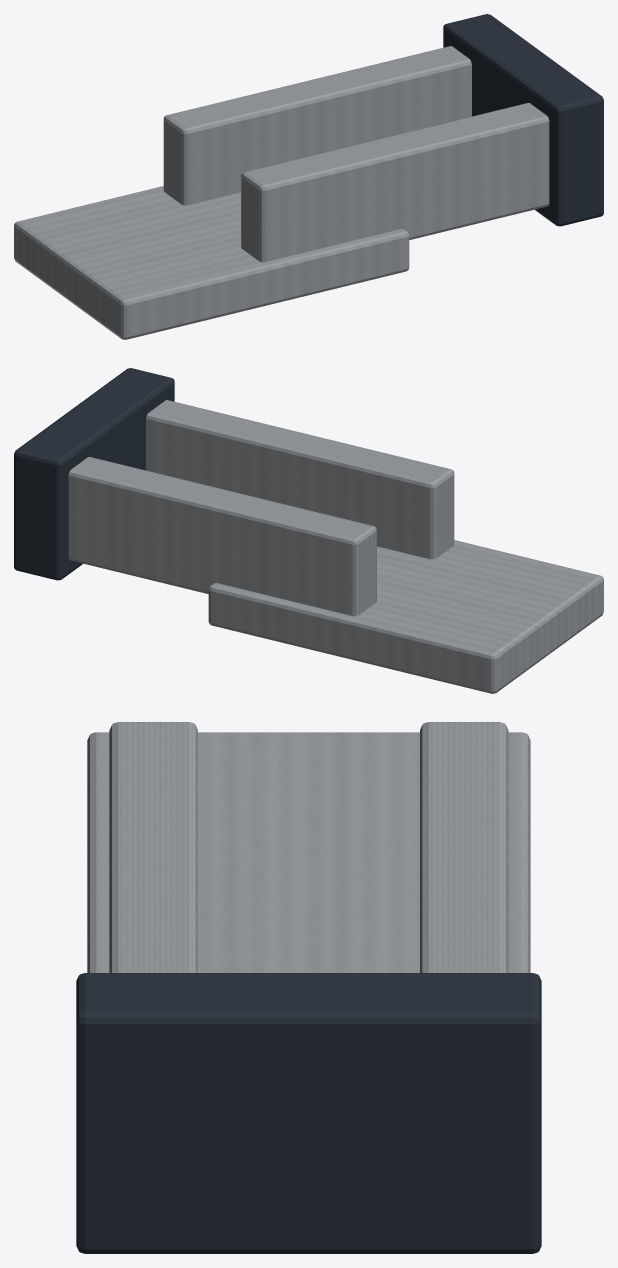
File: booster_bracket.glb
3 views of the same model, one above another, from view 1: azimuth 30°, elevation 25°; view 2: azimuth 150°, elevation 25°; view 3: azimuth 270°, elevation 25° (orthographic). The views are drawn at different scales.
Parts seen in each view (by area): view 1: Core_Mount, Separation_Beam, Separation_Beam.001, Booster_Interface; view 2: Core_Mount, Separation_Beam.001, Separation_Beam, Booster_Interface; view 3: Booster_Interface, Core_Mount, Separation_Beam, Separation_Beam.001.
Boxes of the visible parts, bbox=[...] form: Core_Mount: bbox=[14, 186, 409, 339]; Separation_Beam: bbox=[241, 103, 549, 262]; Separation_Beam.001: bbox=[163, 46, 471, 205]; Booster_Interface: bbox=[443, 14, 603, 226]; Core_Mount: bbox=[208, 540, 603, 693]; Separation_Beam.001: bbox=[68, 457, 376, 616]; Separation_Beam: bbox=[146, 400, 454, 559]; Booster_Interface: bbox=[14, 368, 174, 580]; Booster_Interface: bbox=[76, 973, 541, 1253]; Core_Mount: bbox=[87, 732, 530, 972]; Separation_Beam: bbox=[109, 722, 197, 972]; Separation_Beam.001: bbox=[420, 722, 508, 972].
Bounding box in the file's own units: 1 × 0.26 × 0.42.
2 materials, 1 textured.
